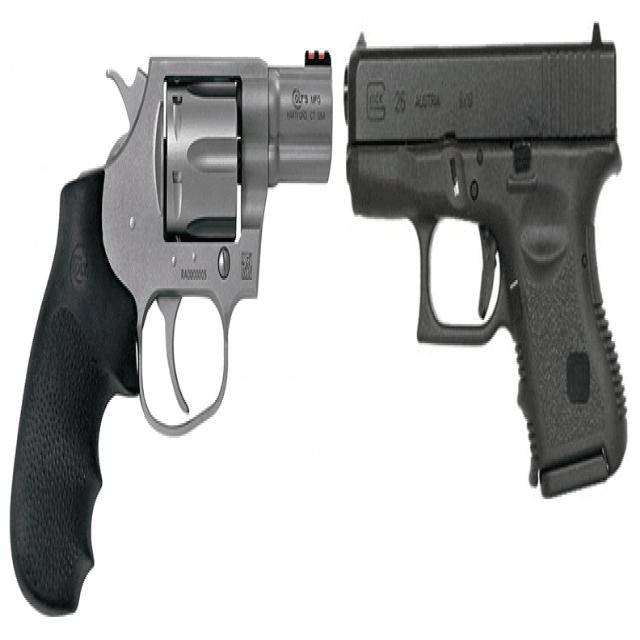HandGun: (9, 51, 333, 617), (343, 25, 629, 501)
